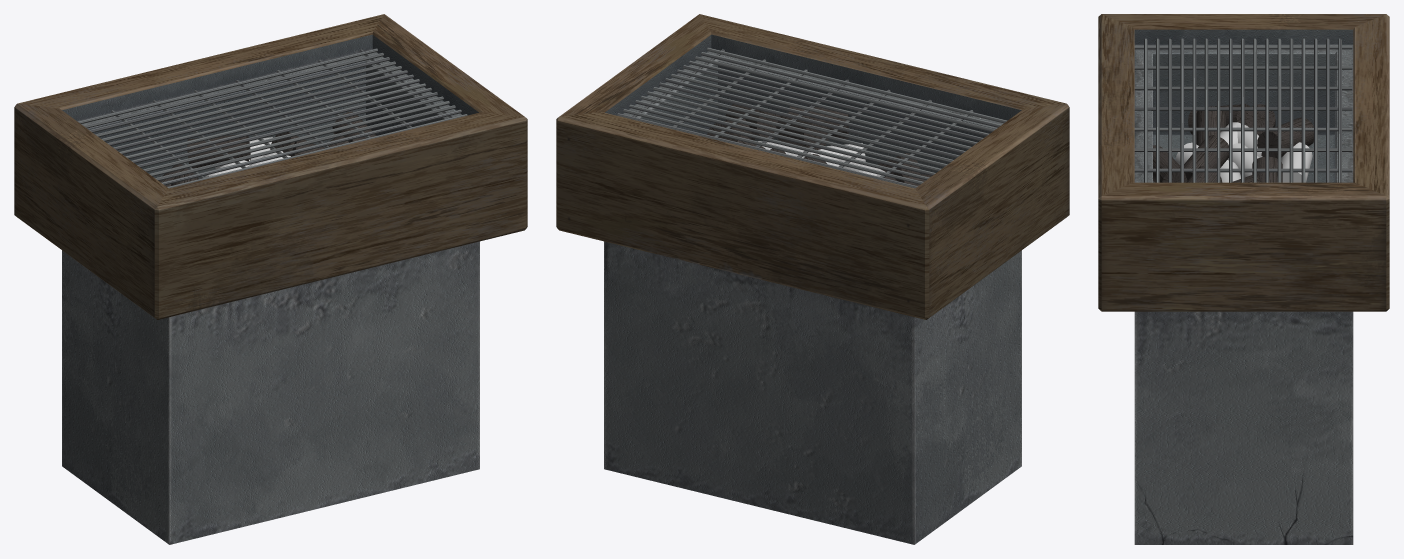
The model's file is yakidai01 1.fbx.
3 views of the same model, side by side, from view 1: azimuth 30°, elevation 25°; view 2: azimuth 150°, elevation 25°; view 3: azimuth 270°, elevation 25° (orthographic).
Visible parts, largest first — view 1: pCube1, pCylinder37, pCylinder1; view 2: pCube1, pCylinder37, pCylinder45; view 3: pCube1, pCylinder37, pCylinder1, pCylinder45, pCylinder2, pCylinder40, pCylinder46, pCylinder42, pCylinder39, pCylinder41.
Part boxes in pixels (bbox=[...]): pCube1: bbox=[14, 14, 527, 544]; pCylinder37: bbox=[77, 48, 467, 188]; pCylinder1: bbox=[187, 134, 250, 168]; pCube1: bbox=[556, 14, 1069, 544]; pCylinder37: bbox=[617, 47, 1007, 188]; pCylinder45: bbox=[776, 113, 828, 149]; pCube1: bbox=[1098, 14, 1389, 544]; pCylinder37: bbox=[1134, 38, 1352, 182]; pCylinder1: bbox=[1257, 117, 1313, 158]; pCylinder45: bbox=[1184, 135, 1228, 180]; pCylinder2: bbox=[1281, 142, 1312, 182]; pCylinder40: bbox=[1196, 106, 1226, 145]; pCylinder46: bbox=[1153, 145, 1187, 182]; pCylinder42: bbox=[1245, 104, 1275, 135]; pCylinder39: bbox=[1252, 156, 1282, 182]; pCylinder41: bbox=[1227, 143, 1259, 177].
Size of the model in its own units: 0.72 by 0.66 by 0.48.
